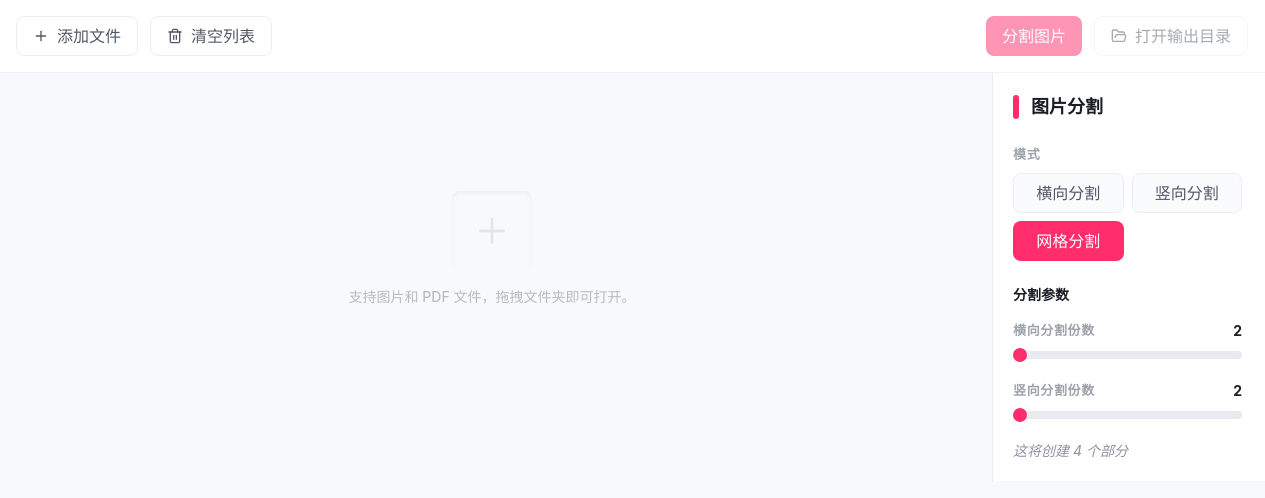
SplitImagePage › starts vertical splitting with selected grid settings
The image size is (1265, 498).
Step 1. Click the button "添加文件" → (77, 36), box [16,16,138,56]
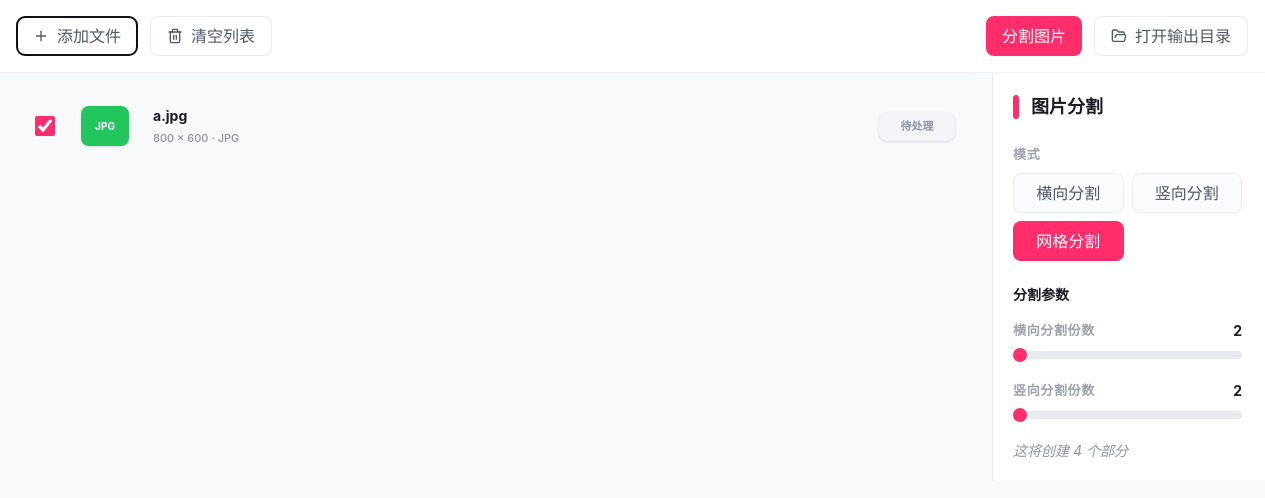
Check: the text "a.jpg" is shown, box [153,107,187,124]
Step 2. Click the button "竖向分割" → (1187, 193), box [1132,173,1242,213]
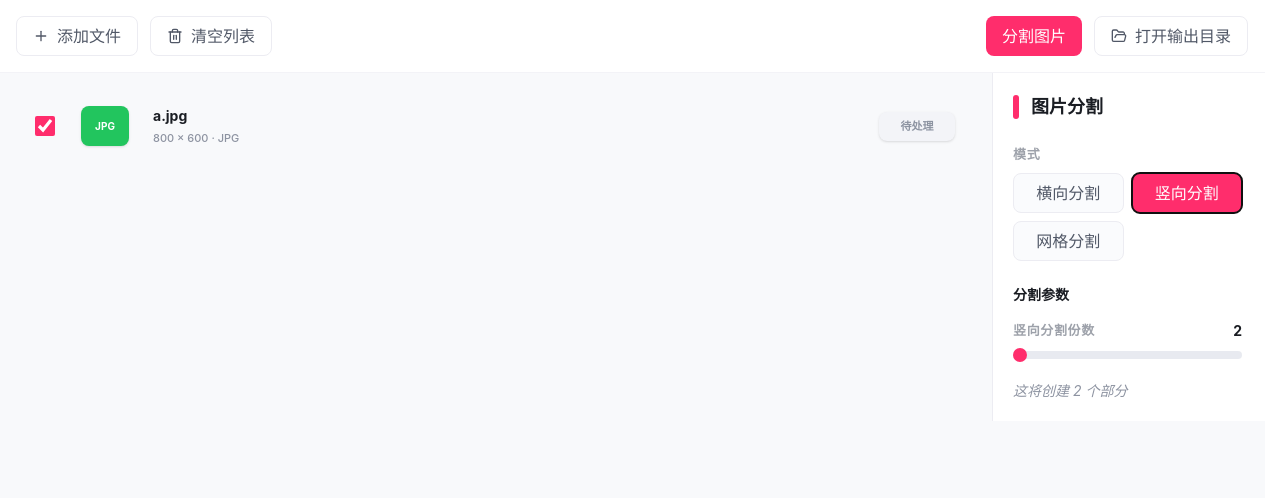
Step 3. Set the slider labelled "竖向分割份数 2" to "4" → (1074, 355), box [1013,351,1242,359]
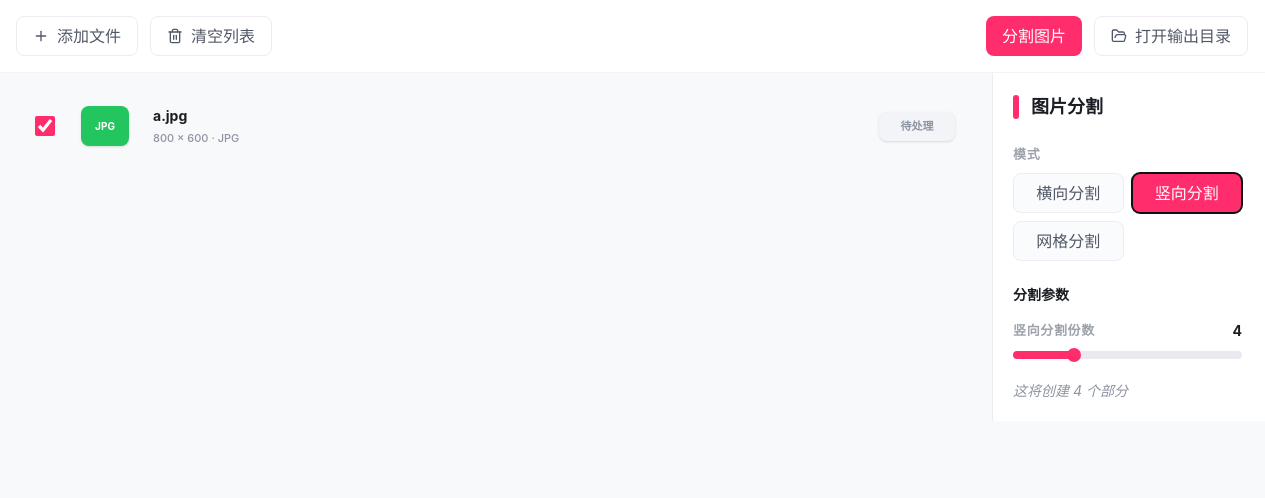
Step 4. Click the button "分割图片" → (1034, 36), box [986,16,1082,56]
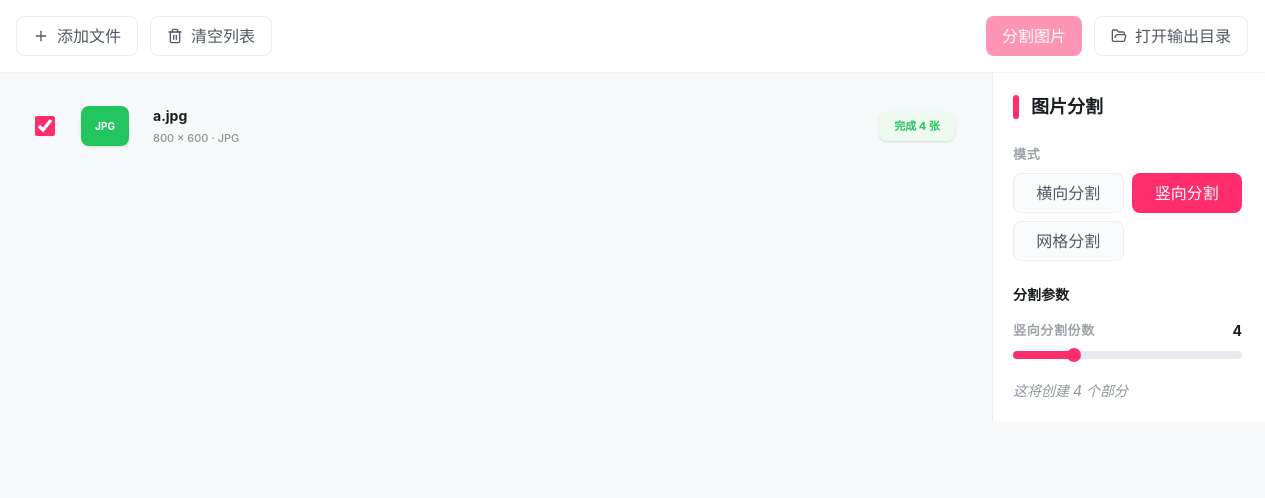
Check: the text "完成 4 张" is shown, box [879,112,955,140]
